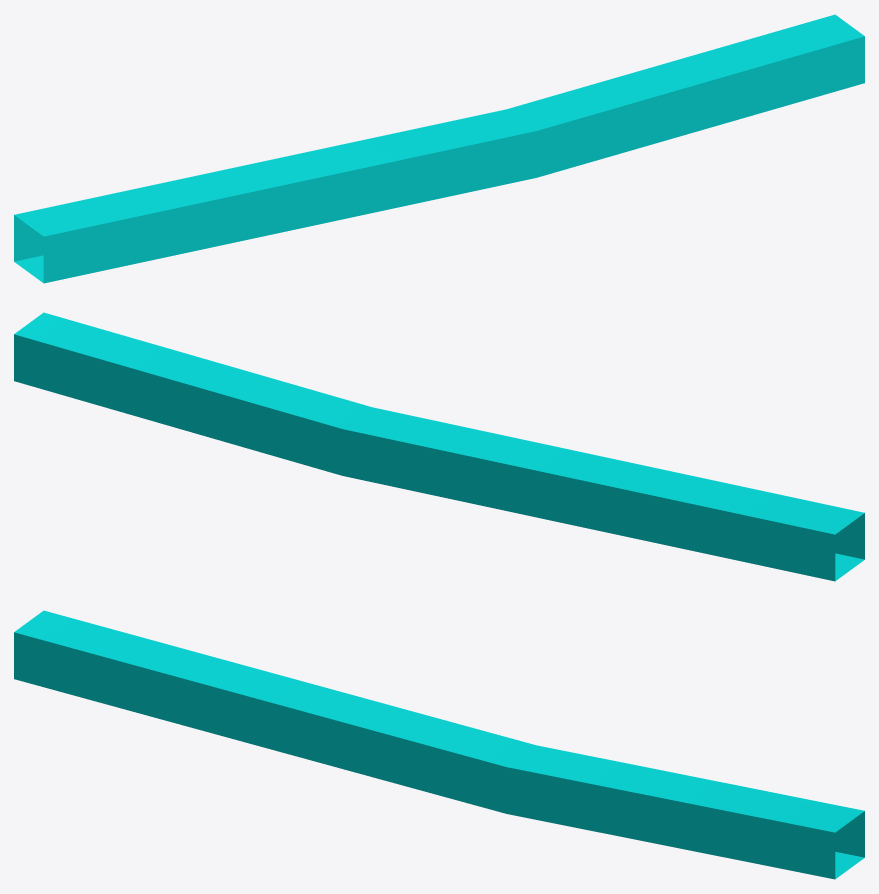
File: m_supportbeam.fbx
3 views of the same model, one above another, from view 1: azimuth 30°, elevation 25°; view 2: azimuth 150°, elevation 25°; view 3: azimuth 330°, elevation 25° (orthographic).
Parts seen in each view (by area): view 1: m_supportbeam; view 2: m_supportbeam; view 3: m_supportbeam.
Part boxes in pixels (<box>): m_supportbeam: <box>14,14,864,283</box>; m_supportbeam: <box>14,312,864,581</box>; m_supportbeam: <box>14,610,864,879</box>.
Size of the model in its own units: 6.74 by 0.4819 by 0.4233.
